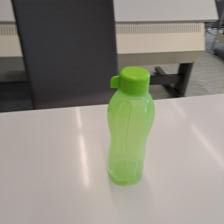bottle: (103, 65, 155, 184)
